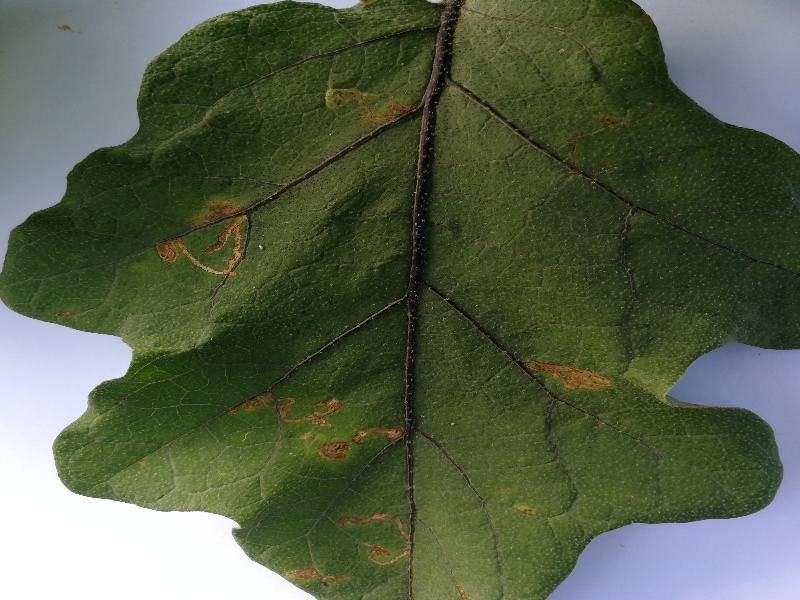leafminer: (149, 190, 254, 289), (228, 389, 348, 455), (312, 76, 425, 130), (316, 416, 415, 464), (522, 355, 624, 399), (334, 515, 415, 568), (275, 559, 354, 600)
